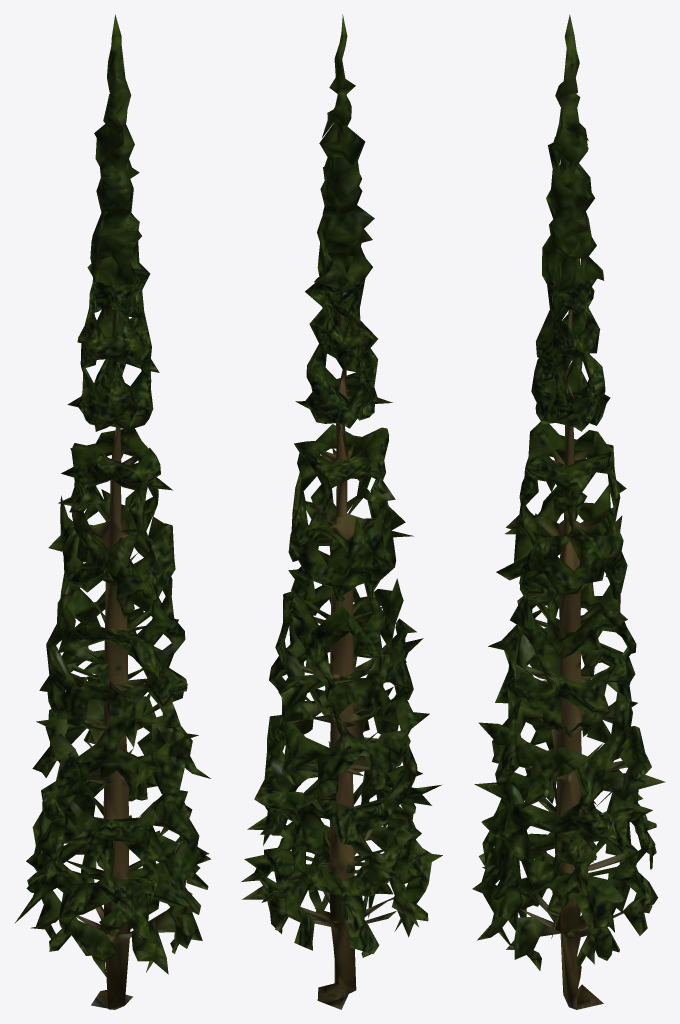
Rendered from cedar-b.glb.
3 views of the same model, side by side, from view 1: azimuth 30°, elevation 25°; view 2: azimuth 150°, elevation 25°; view 3: azimuth 270°, elevation 25° (orthographic).
Visible parts, largest first — view 1: tripo_node_3b5293c9-6aa6-41c7-a19a-71a5e205d939; view 2: tripo_node_3b5293c9-6aa6-41c7-a19a-71a5e205d939; view 3: tripo_node_3b5293c9-6aa6-41c7-a19a-71a5e205d939.
Boxes of the visible parts, <box> form: tripo_node_3b5293c9-6aa6-41c7-a19a-71a5e205d939: <box>14,14,210,1009</box>; tripo_node_3b5293c9-6aa6-41c7-a19a-71a5e205d939: <box>241,14,442,1009</box>; tripo_node_3b5293c9-6aa6-41c7-a19a-71a5e205d939: <box>472,14,665,1009</box>.
Size of the model in its own units: 0.1881 by 0.9985 by 0.1767.
1 material, 1 textured.
